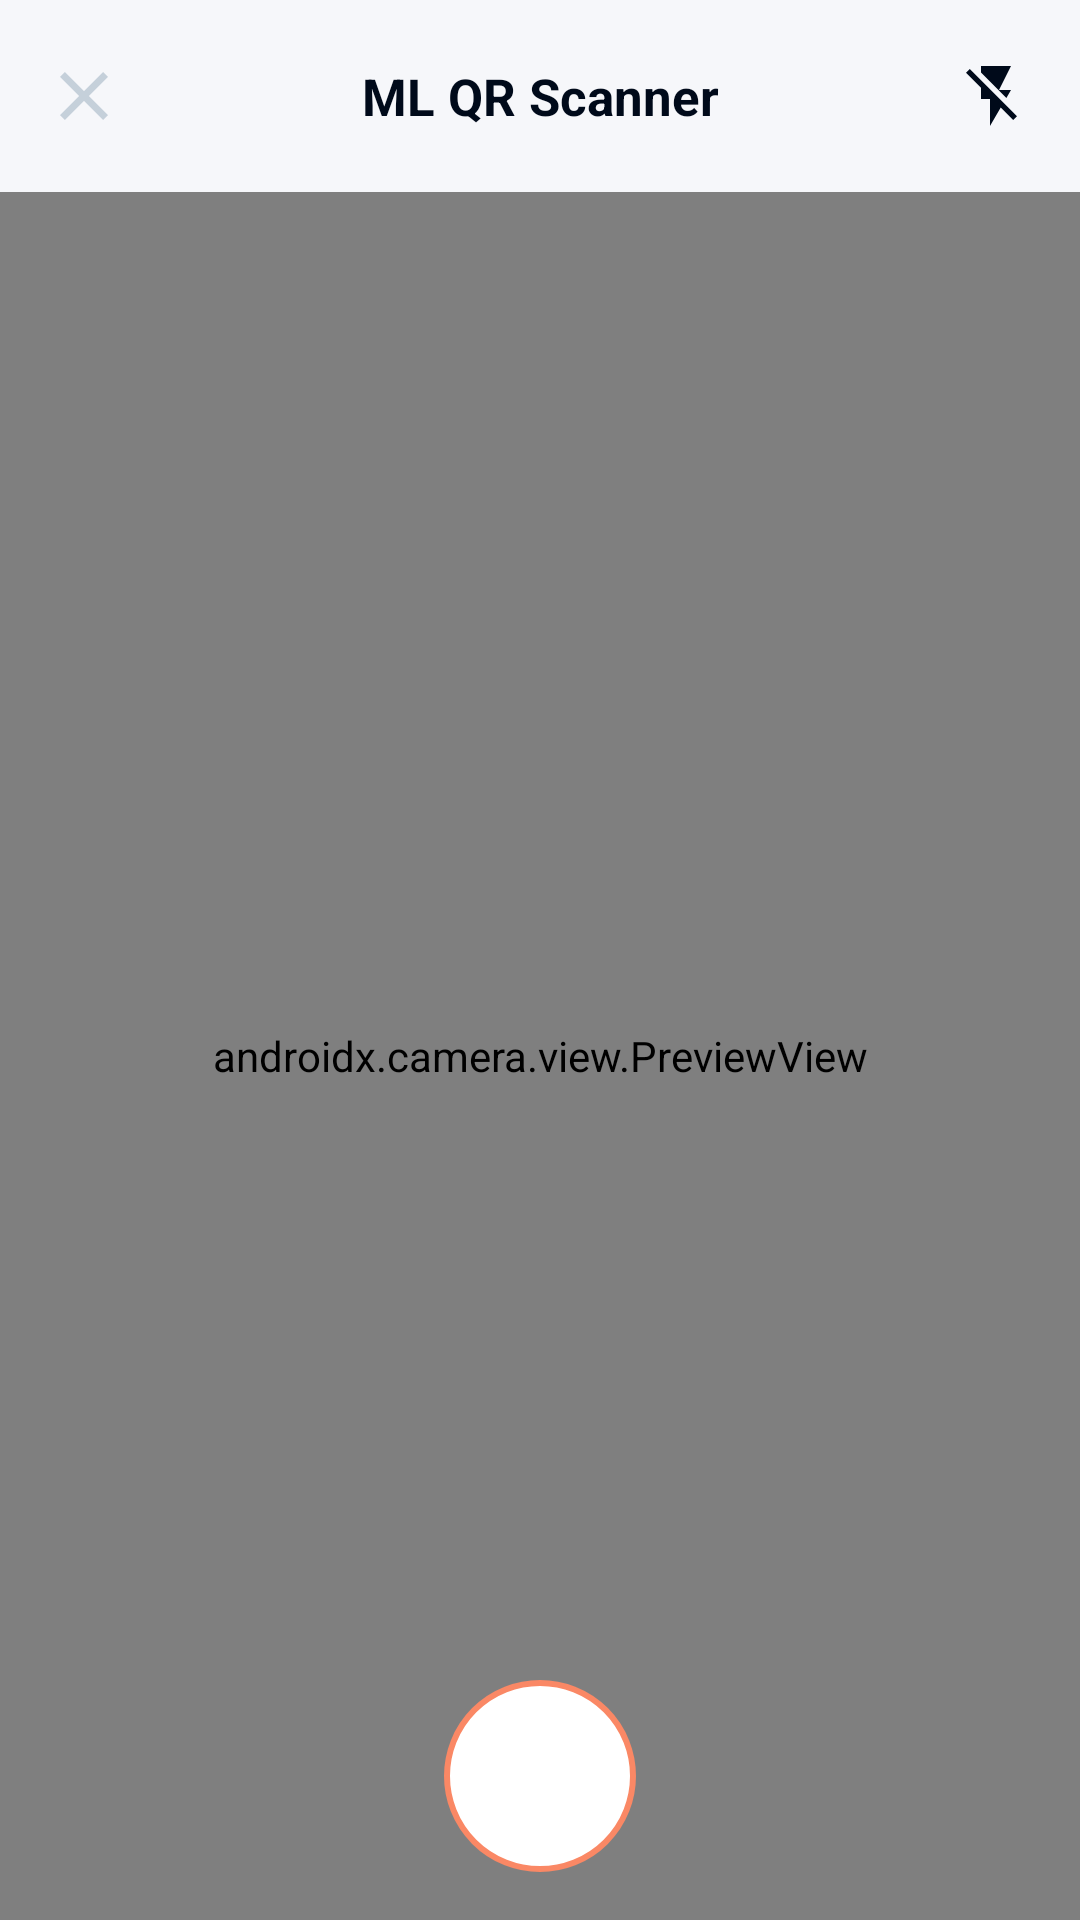

Locate icon controls on the screen. Image size 1080×1920, boxes as rect(x1, y1, x2, y2).
cross: rect(60, 72, 108, 120)
flash off: rect(966, 66, 1017, 126)
